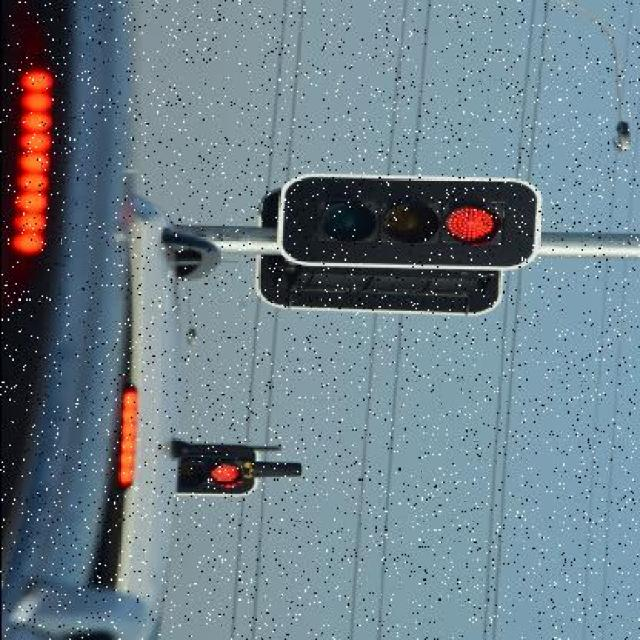red-light: (276, 181, 548, 293)
